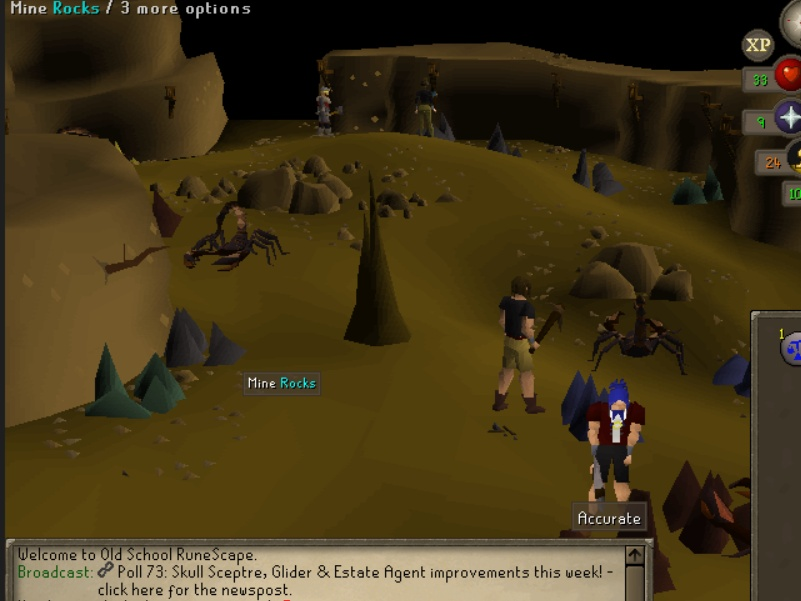adamant: (81, 340, 190, 426), (669, 161, 726, 208)
iron: (659, 457, 734, 556), (598, 481, 660, 540), (150, 180, 184, 241)
mithril: (559, 360, 647, 450), (705, 351, 752, 402)
